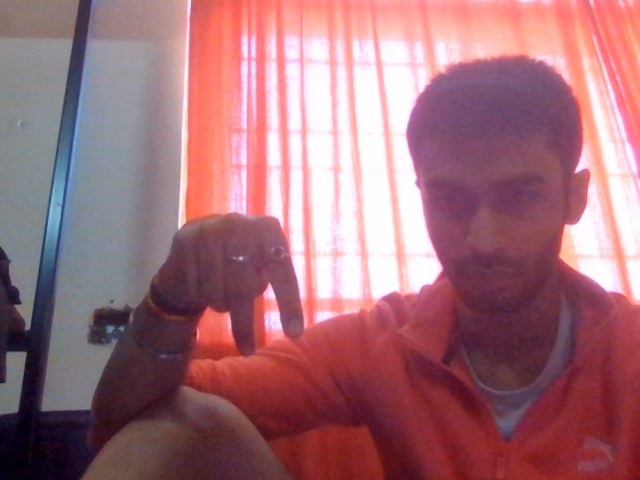P: (111, 197, 324, 402)
